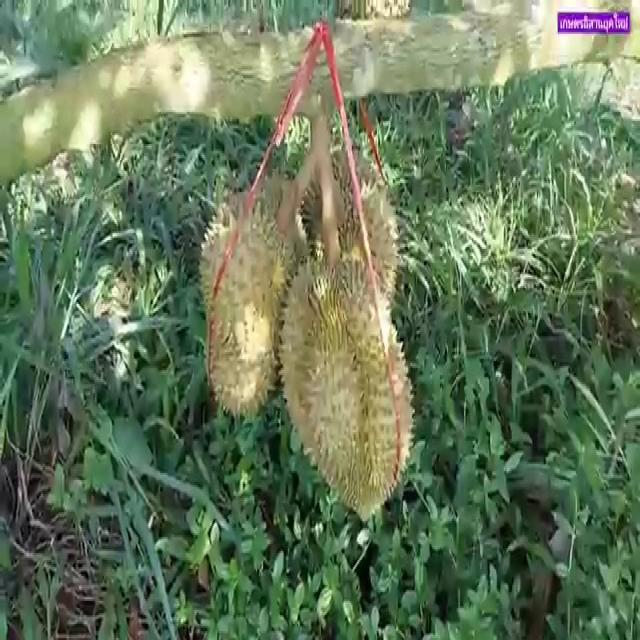durian: (275, 238, 419, 528), (190, 164, 314, 424), (285, 141, 402, 360)
